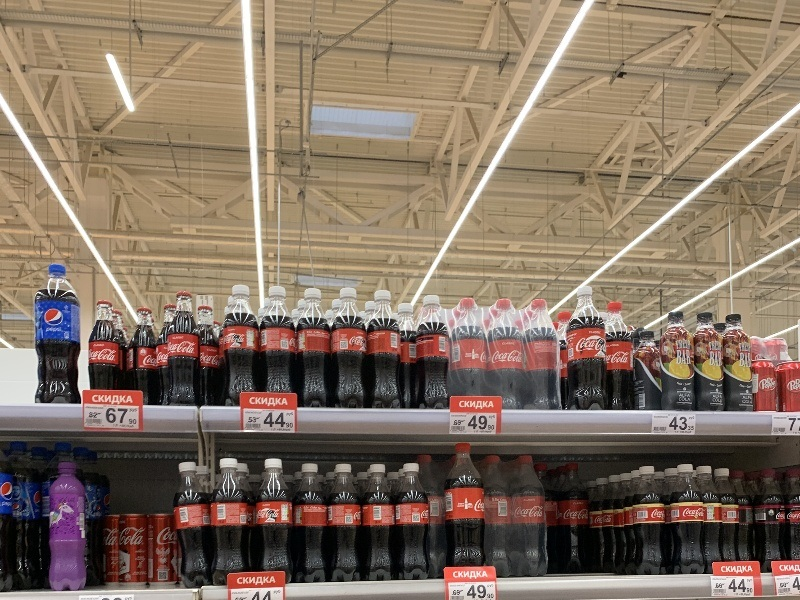lemonade: (31, 259, 82, 410), (442, 440, 490, 574), (169, 457, 214, 587), (159, 289, 205, 413), (363, 289, 407, 415), (567, 284, 609, 414), (289, 461, 332, 585), (219, 281, 259, 412), (329, 287, 369, 417), (255, 458, 294, 590), (324, 461, 365, 584), (358, 460, 398, 585), (412, 293, 452, 413), (258, 283, 297, 405), (668, 464, 707, 579), (629, 464, 666, 581), (296, 287, 331, 408)
